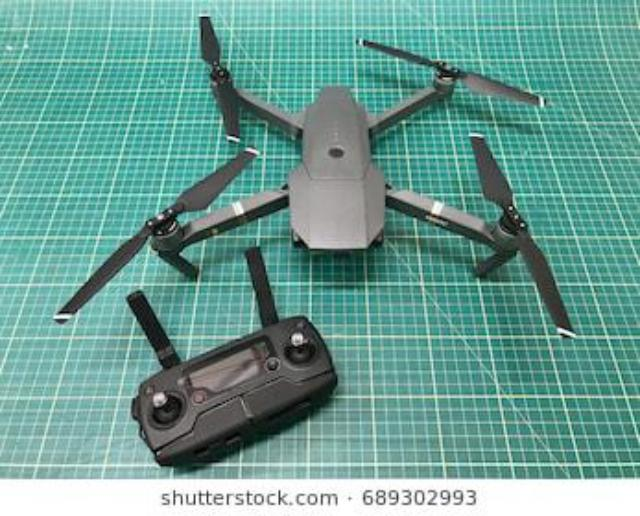drone: (48, 0, 580, 346)
